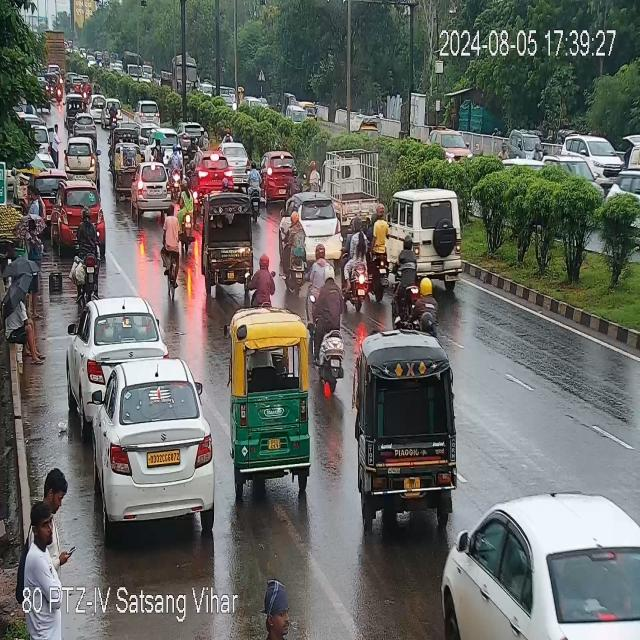2-wheelers: (390, 237, 438, 329), (318, 264, 348, 398), (73, 198, 102, 307), (341, 216, 374, 309), (283, 210, 306, 297), (178, 175, 197, 258), (247, 162, 264, 210), (166, 146, 184, 184), (154, 136, 168, 163), (107, 98, 120, 126)
auto: (357, 334, 464, 536), (232, 292, 321, 505), (199, 189, 255, 285), (318, 142, 382, 220), (114, 138, 143, 171), (65, 97, 82, 120)
car: (449, 490, 639, 640), (87, 358, 215, 527), (71, 296, 162, 403), (379, 186, 465, 286), (274, 192, 344, 274), (48, 188, 108, 254), (546, 128, 624, 174), (187, 147, 234, 206), (132, 166, 175, 221), (256, 149, 302, 199), (135, 102, 162, 134), (85, 93, 106, 125), (71, 115, 98, 138)
pedestrian: (22, 468, 73, 572), (1, 263, 47, 374), (26, 221, 45, 322), (32, 172, 58, 228)
